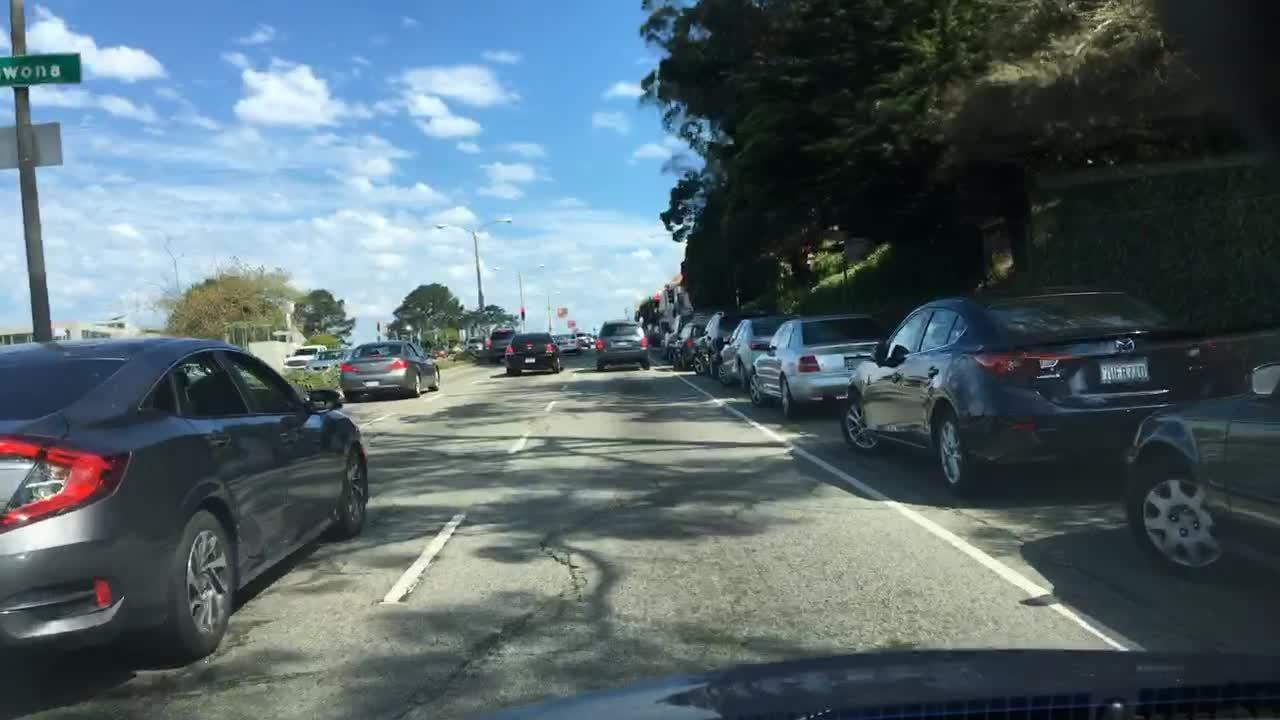Mazda: (1111, 337, 1140, 356)
